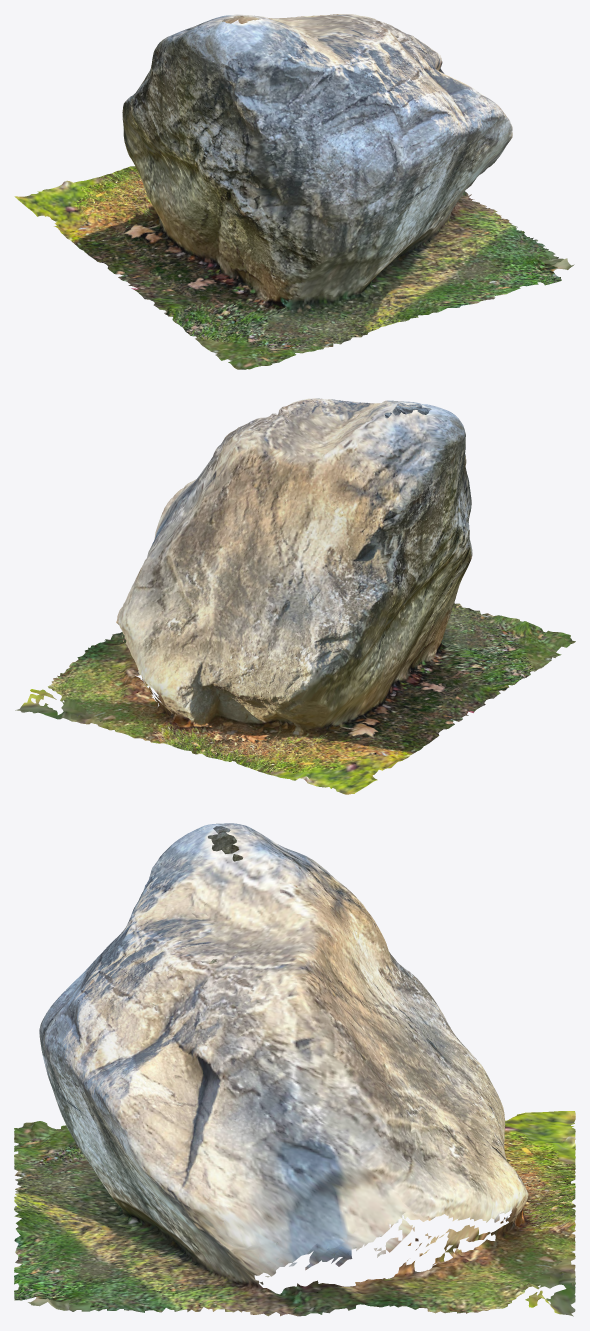
The model's file is large_stone.glb.
3 views of the same model, one above another, from view 1: azimuth 30°, elevation 25°; view 2: azimuth 150°, elevation 25°; view 3: azimuth 270°, elevation 25° (orthographic). The views are drawn at different scales.
Parts seen in each view (by area): view 1: Object_2; view 2: Object_2; view 3: Object_2.
Boxes of the visible parts, left/top/right/bottom form: Object_2: left=14, top=14, right=574, bottom=369; Object_2: left=15, top=398, right=575, bottom=794; Object_2: left=14, top=823, right=575, bottom=1316.
Bounding box in the file's own units: 1.83 × 1.4 × 2.1.
Materials: 5 (5 with a texture image).
